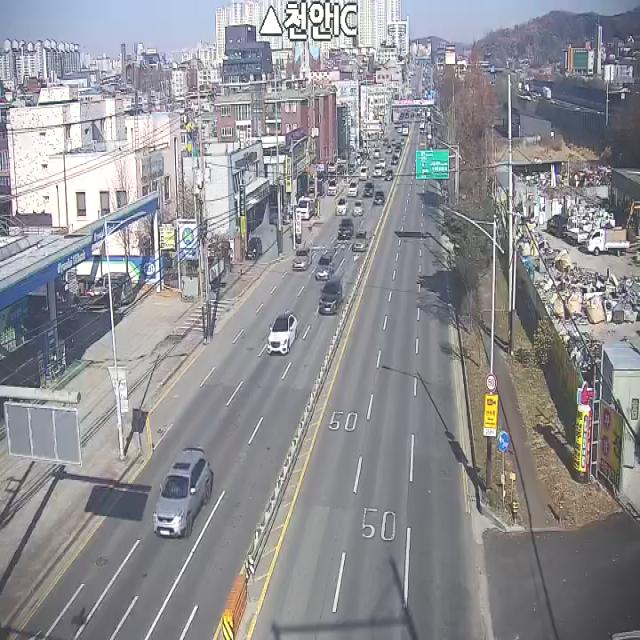Car: (152, 447, 214, 538), (91, 271, 133, 307), (267, 313, 297, 354), (318, 280, 342, 315), (315, 254, 335, 280), (291, 248, 312, 270), (337, 218, 354, 240), (246, 236, 262, 259), (353, 230, 367, 250), (336, 198, 348, 216), (353, 199, 364, 216), (328, 178, 338, 196), (373, 191, 385, 205), (364, 182, 374, 197), (348, 183, 358, 197), (360, 167, 369, 180), (385, 169, 394, 181), (374, 164, 382, 176), (379, 158, 386, 168)
Truck: (587, 227, 631, 258), (292, 186, 316, 228)
